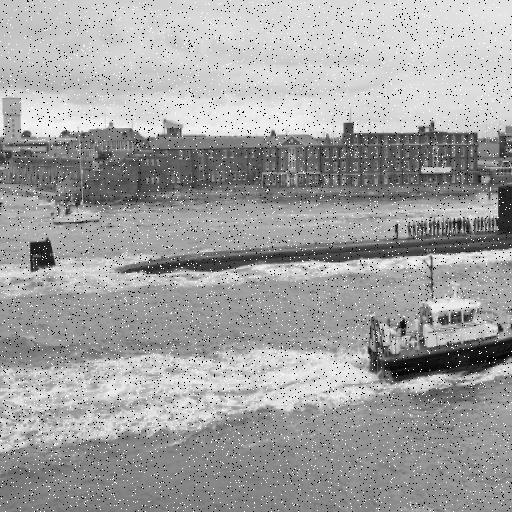submarine: (30, 162, 512, 291)
